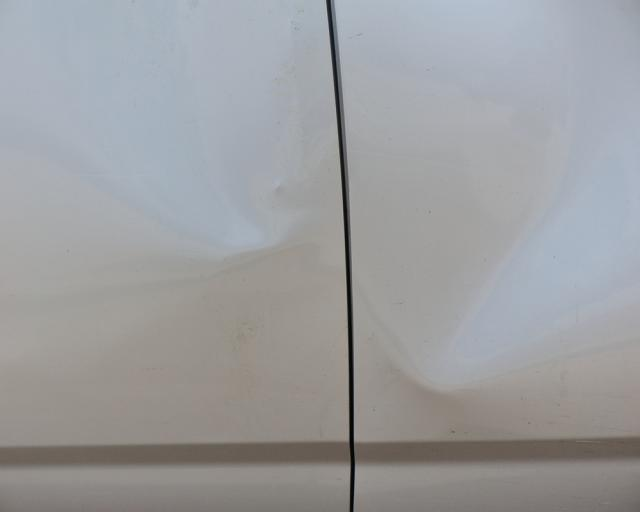dent: (366, 64, 612, 389), (66, 2, 283, 246)
